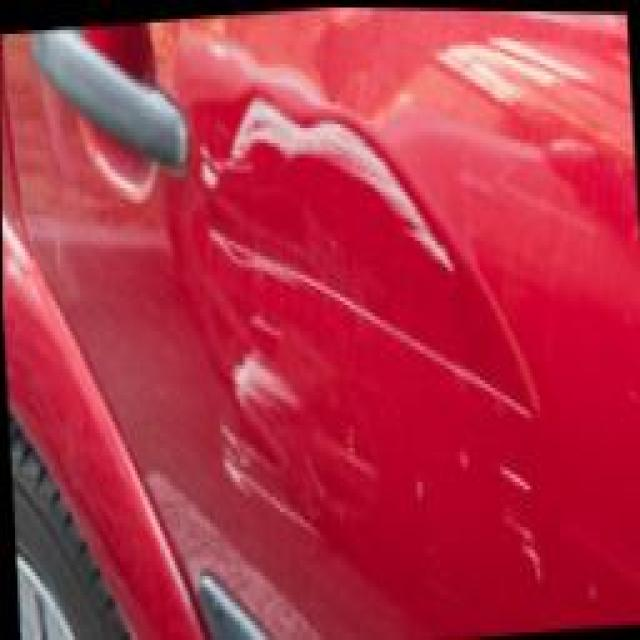Door: (142, 4, 640, 640)
